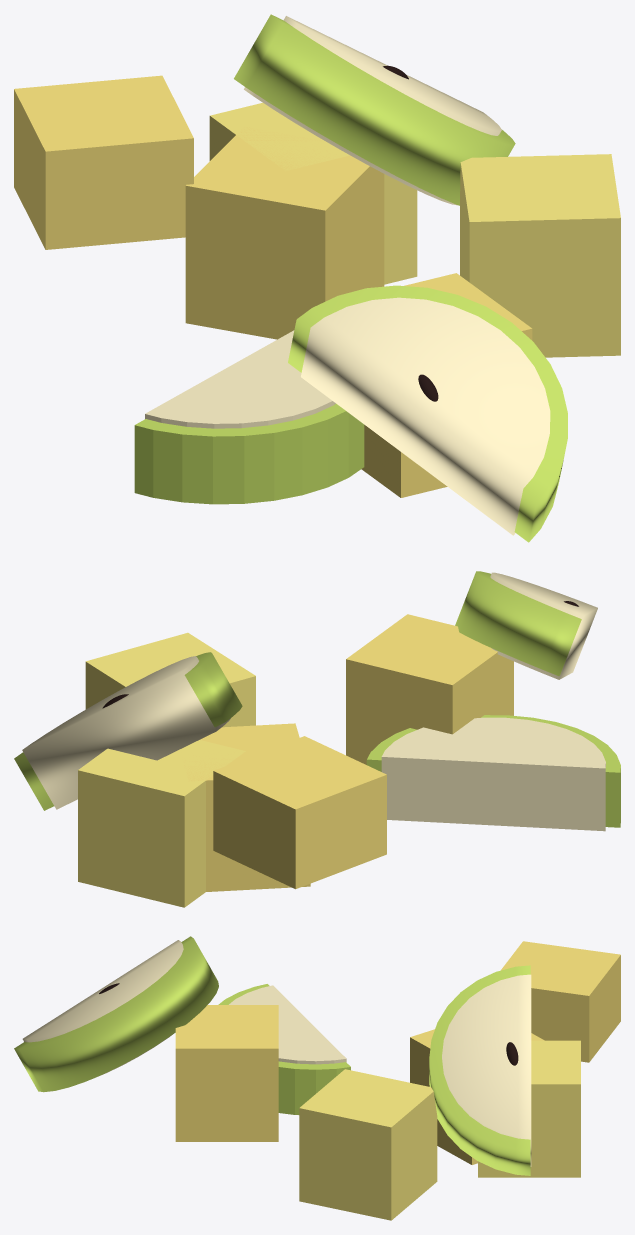
Rendered from platedfruits.fbx.
3 renders of one model, top to bottom at view 1: azimuth 30°, elevation 25°; view 2: azimuth 150°, elevation 25°; view 3: azimuth 270°, elevation 25°, orthographic. The views are drawn at different scales.
Parts seen in each view (by area): view 1: Cylinder.031, Cube.006, Cube.008, Cube.027, Cylinder.023, Cylinder.026, Cylinder.027, Cylinder.030, Cube.010, Cylinder.022, Cube.005; view 2: Cylinder.027, Cube.027, Cube.010, Cube.005, Cylinder.022, Cylinder.030, Cube.008, Cube.006, Cylinder.023, Cylinder.031, Cylinder.026; view 3: Cube.008, Cube.005, Cylinder.022, Cylinder.030, Cube.027, Cube.010, Cylinder.023, Cylinder.031, Cylinder.027, Cylinder.026, Cube.006.
Part boxes in pixels (bbox=[...]): Cylinder.031: bbox=[301, 297, 550, 535]; Cube.006: bbox=[185, 127, 384, 339]; Cube.008: bbox=[460, 154, 620, 357]; Cube.027: bbox=[14, 75, 193, 249]; Cylinder.023: bbox=[234, 14, 515, 205]; Cylinder.026: bbox=[134, 403, 364, 504]; Cylinder.027: bbox=[145, 330, 335, 428]; Cylinder.030: bbox=[288, 285, 567, 542]; Cube.010: bbox=[209, 102, 417, 284]; Cylinder.022: bbox=[244, 16, 501, 205]; Cube.005: bbox=[361, 273, 532, 497]; Cylinder.027: bbox=[381, 717, 605, 831]; Cube.027: bbox=[213, 736, 386, 889]; Cube.010: bbox=[78, 740, 245, 907]; Cube.005: bbox=[346, 614, 513, 764]; Cylinder.022: bbox=[22, 656, 230, 809]; Cylinder.030: bbox=[455, 571, 581, 675]; Cube.008: bbox=[85, 632, 255, 727]; Cube.006: bbox=[184, 723, 310, 891]; Cylinder.023: bbox=[14, 652, 242, 810]; Cylinder.031: bbox=[490, 572, 597, 679]; Cylinder.026: bbox=[366, 715, 620, 827]; Cube.008: bbox=[299, 1069, 437, 1220]; Cube.005: bbox=[175, 1005, 278, 1141]; Cylinder.022: bbox=[442, 974, 531, 1166]; Cylinder.030: bbox=[14, 936, 218, 1092]; Cube.027: bbox=[501, 941, 620, 1062]; Cube.010: bbox=[478, 1040, 580, 1177]; Cylinder.023: bbox=[429, 965, 530, 1175]; Cylinder.031: bbox=[22, 940, 183, 1074]; Cylinder.027: bbox=[229, 985, 346, 1064]; Cylinder.026: bbox=[218, 984, 350, 1114]; Cube.006: bbox=[410, 1029, 544, 1164].
Bounding box in the file's own units: 235 × 103 × 321.
